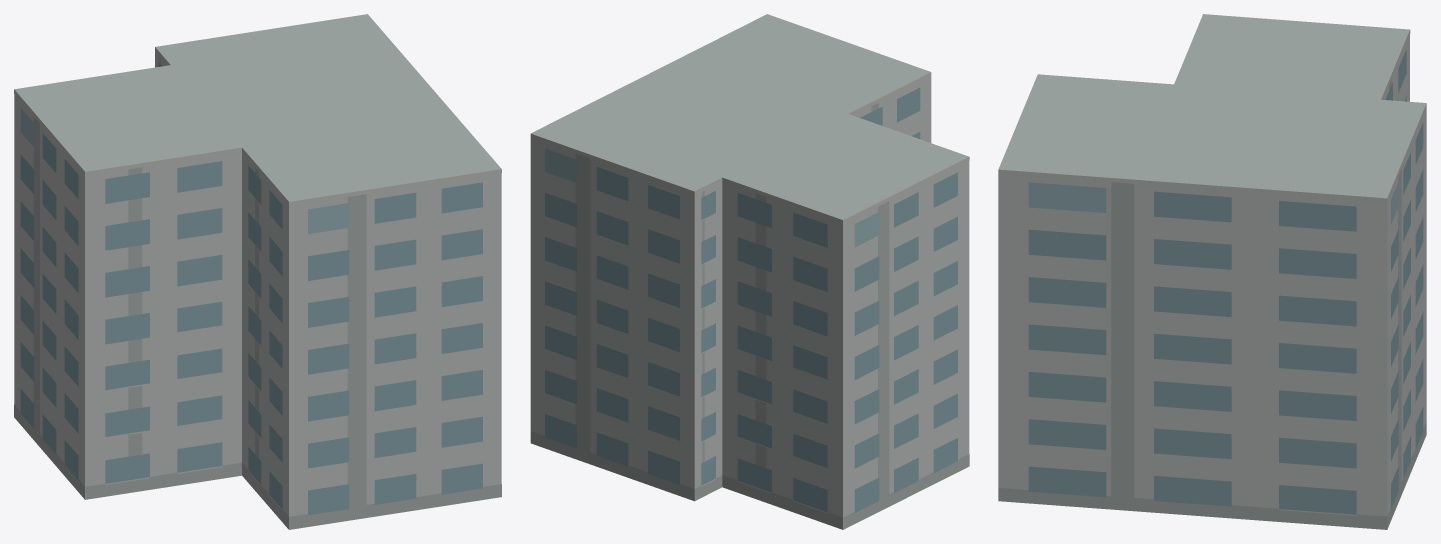
The model's file is survey-upis-32531620.glb.
3 views of the same model, side by side, from view 1: azimuth 30°, elevation 25°; view 2: azimuth 150°, elevation 25°; view 3: azimuth 270°, elevation 25° (orthographic). The views are drawn at different scales.
Visible parts, largest first — view 1: survey-upis-32531620.tmp; view 2: survey-upis-32531620.tmp; view 3: survey-upis-32531620.tmp.
Part boxes in pixels (left/top/right/bottom): survey-upis-32531620.tmp: left=14, top=14, right=501, bottom=529; survey-upis-32531620.tmp: left=530, top=14, right=969, bottom=529; survey-upis-32531620.tmp: left=998, top=14, right=1426, bottom=529.
Bounding box in the file's own units: 22.67 × 19 × 22.25.
